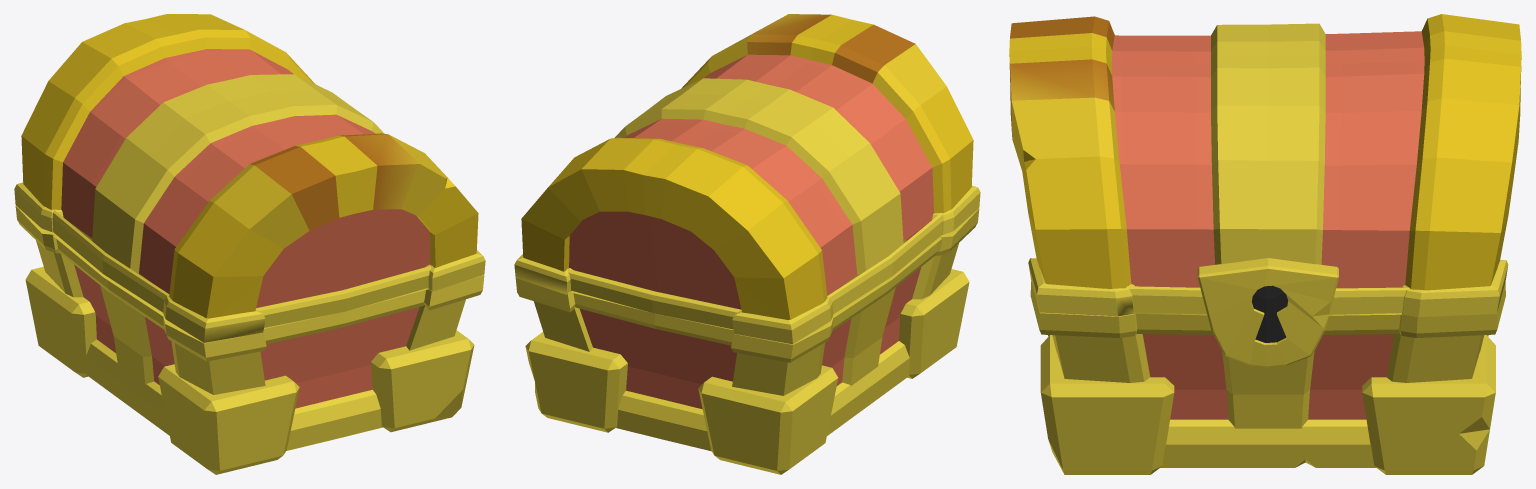
Rendered from chestlowpoly.fbx.
The picture shows the model from 3 angles, left to right: view 1: azimuth 30°, elevation 25°; view 2: azimuth 150°, elevation 25°; view 3: azimuth 270°, elevation 25°; orthographic projection. The views are drawn at different scales.
Visible parts, largest first — view 1: chestlid, chest; view 2: chestlid, chest; view 3: chestlid, chest.
Part boxes in pixels (x1,y1,x2,y2): chestlid: [14, 14, 485, 342]; chest: [15, 206, 484, 474]; chestlid: [514, 14, 980, 344]; chest: [515, 208, 979, 474]; chestlid: [1009, 14, 1521, 317]; chest: [1030, 258, 1505, 474].
Size of the model in its own units: 196 by 186 by 239.
